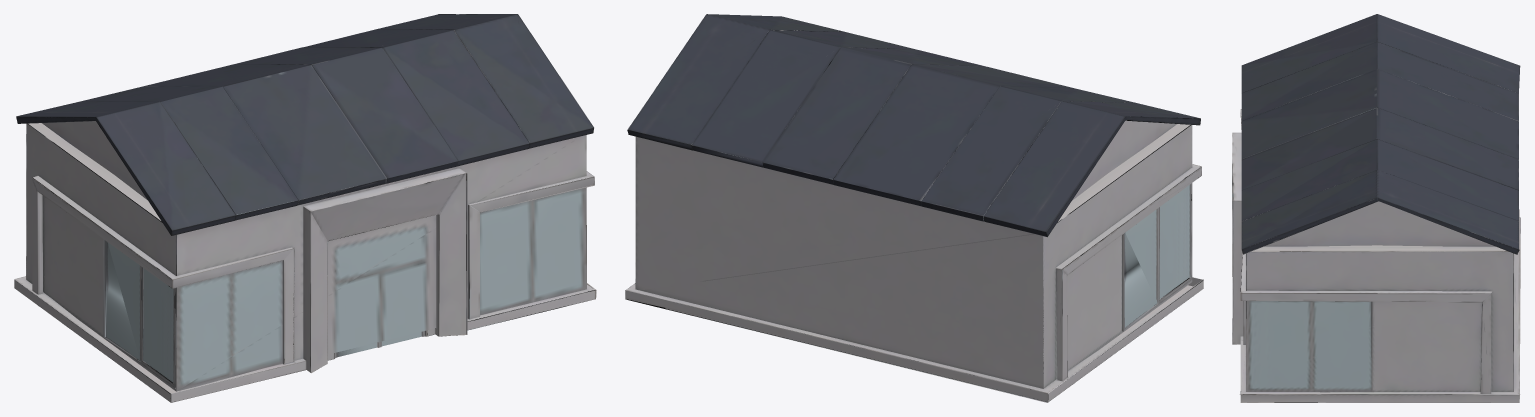
The model's file is 10-supermarket.glb.
The picture shows the model from 3 angles, left to right: view 1: azimuth 30°, elevation 25°; view 2: azimuth 150°, elevation 25°; view 3: azimuth 270°, elevation 25°; orthographic projection. The views are drawn at different scales.
Visible parts, largest first — view 1: geometry_0; view 2: geometry_0; view 3: geometry_0.
Part boxes in pixels (left/top/right/bottom): geometry_0: left=14, top=14, right=596, bottom=402; geometry_0: left=625, top=14, right=1203, bottom=402; geometry_0: left=1232, top=14, right=1520, bottom=402.
Size of the model in its own units: 0.9575 by 0.4932 by 0.6304.
Materials: 1 (1 with a texture image).
